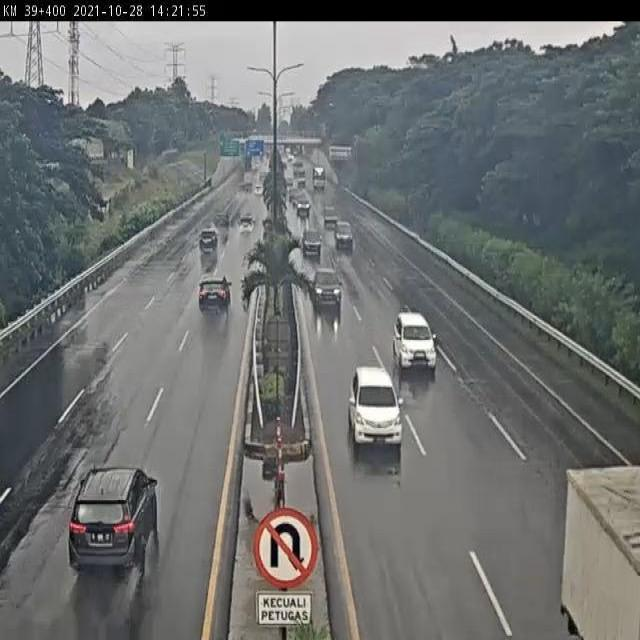car: (69, 469, 159, 574), (348, 367, 403, 449), (392, 313, 436, 368), (197, 276, 232, 315), (310, 267, 342, 305), (301, 228, 323, 255), (335, 220, 354, 249), (199, 228, 217, 255)
